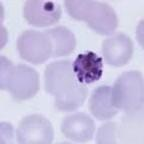Infected: (71, 50, 103, 84)
Uninfected: (16, 29, 53, 64), (44, 58, 77, 95), (9, 64, 41, 100), (89, 85, 121, 120), (18, 114, 55, 144), (102, 32, 134, 66), (86, 2, 118, 35), (114, 70, 144, 105), (24, 0, 62, 27), (61, 112, 96, 141), (48, 25, 77, 58), (64, 0, 96, 20), (96, 121, 123, 144)
